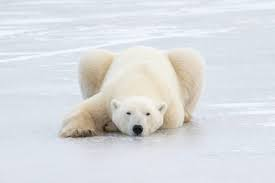PolarBear: (56, 42, 208, 144)
